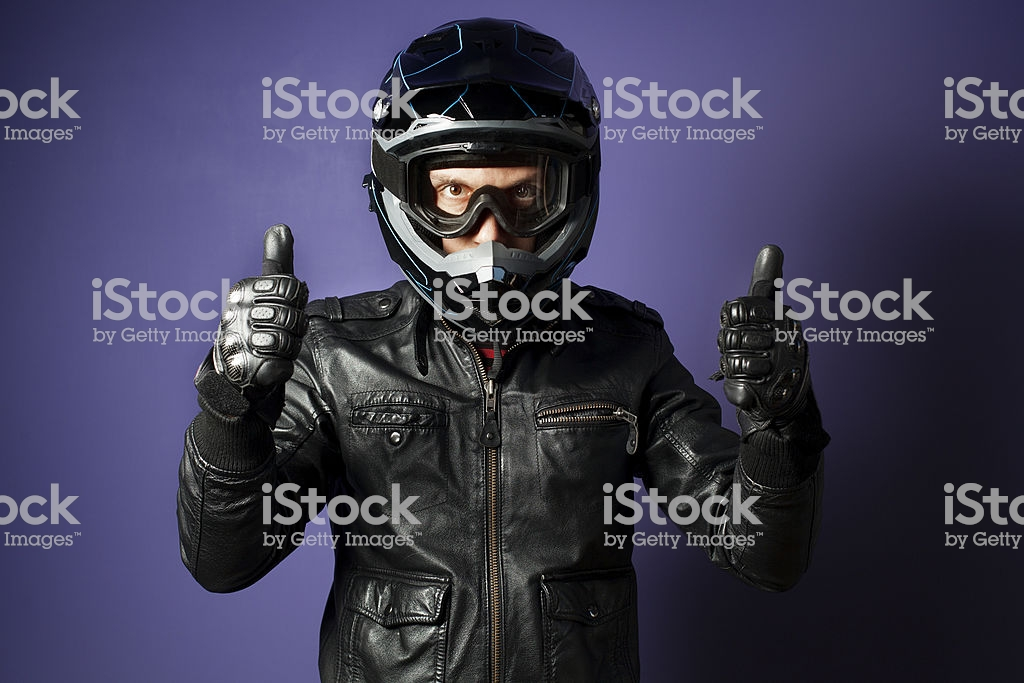helmet: (375, 8, 625, 312)
